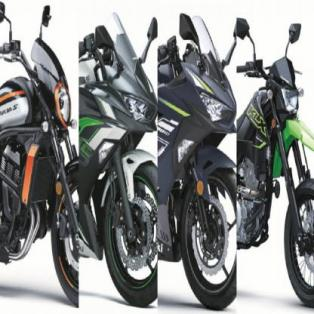Motocicleta: (0, 0, 80, 308), (158, 0, 236, 311), (236, 1, 313, 306), (82, 0, 157, 309)
